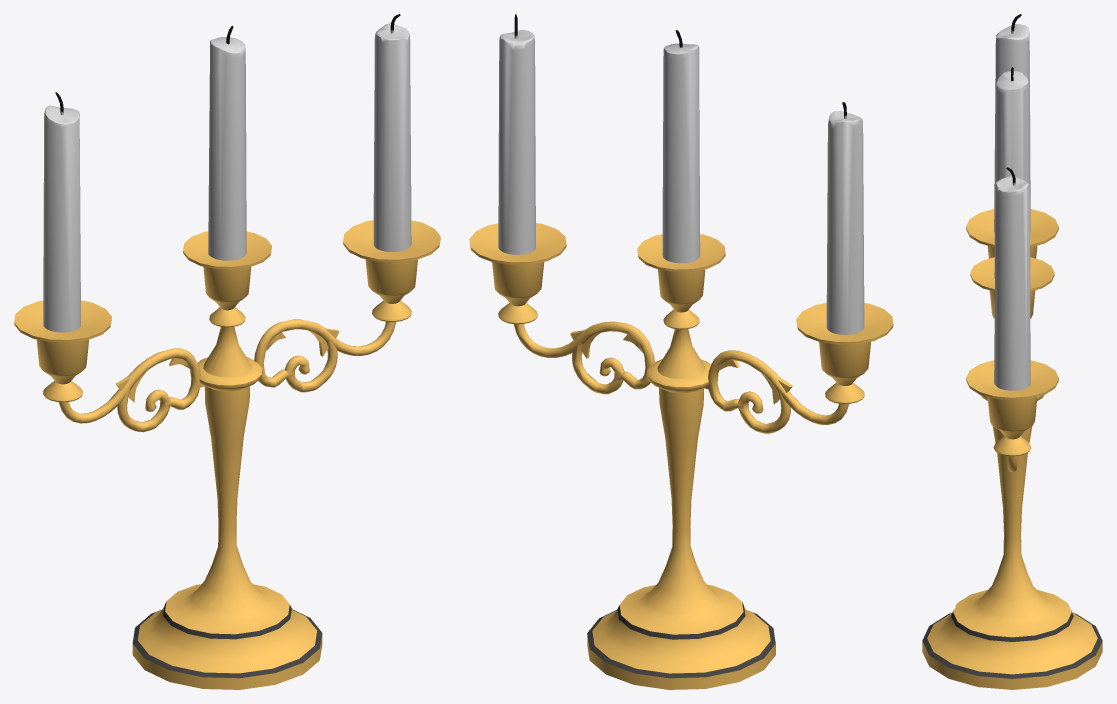
Rendered from candle_holder.glb.
3 views of the same model, side by side, from view 1: azimuth 30°, elevation 25°; view 2: azimuth 150°, elevation 25°; view 3: azimuth 270°, elevation 25° (orthographic). The views are drawn at different scales.
Visible parts, largest first — view 1: Plane_Material.001_0; view 2: Plane_Material.001_0; view 3: Plane_Material.001_0.
Part boxes in pixels (x1,y1,x2,y2): Plane_Material.001_0: (14, 14, 440, 689); Plane_Material.001_0: (469, 14, 893, 689); Plane_Material.001_0: (922, 14, 1102, 689).
Size of the model in its own units: 11.52 by 16.55 by 4.61.
1 material, 1 textured.
